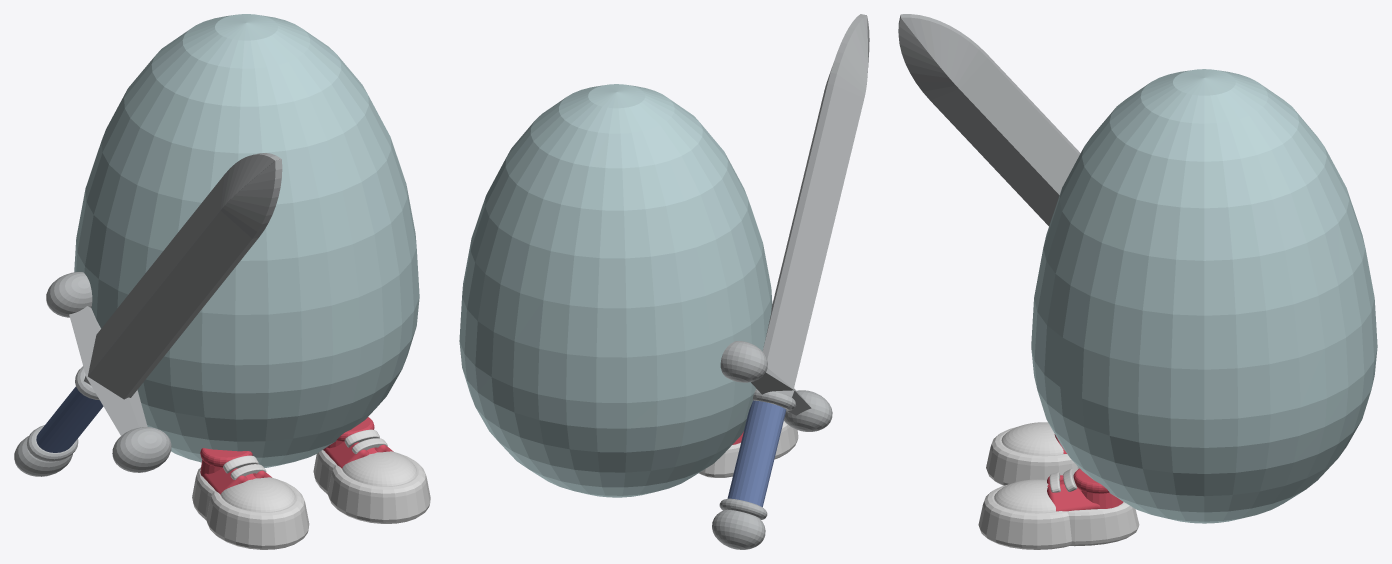
File: asset.glb
3 views of the same model, side by side, from view 1: azimuth 30°, elevation 25°; view 2: azimuth 150°, elevation 25°; view 3: azimuth 270°, elevation 25° (orthographic). The views are drawn at different scales.
Parts seen in each view (by area): view 1: Mesh_Mesh_head_geo.001_lambert2SG.001; view 2: Mesh_Mesh_head_geo.001_lambert2SG.001; view 3: Mesh_Mesh_head_geo.001_lambert2SG.001.
Part boxes in pixels (x1=…): Mesh_Mesh_head_geo.001_lambert2SG.001: x1=14, y1=14, x2=430, y2=549; Mesh_Mesh_head_geo.001_lambert2SG.001: x1=459, y1=14, x2=869, y2=549; Mesh_Mesh_head_geo.001_lambert2SG.001: x1=898, y1=14, x2=1377, y2=549.
Size of the model in its own units: 53 by 64.2 by 63.63.
